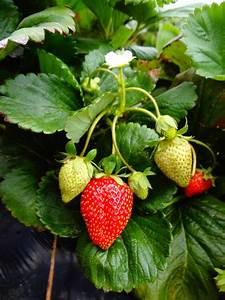Fresa: (75, 167, 140, 255)
